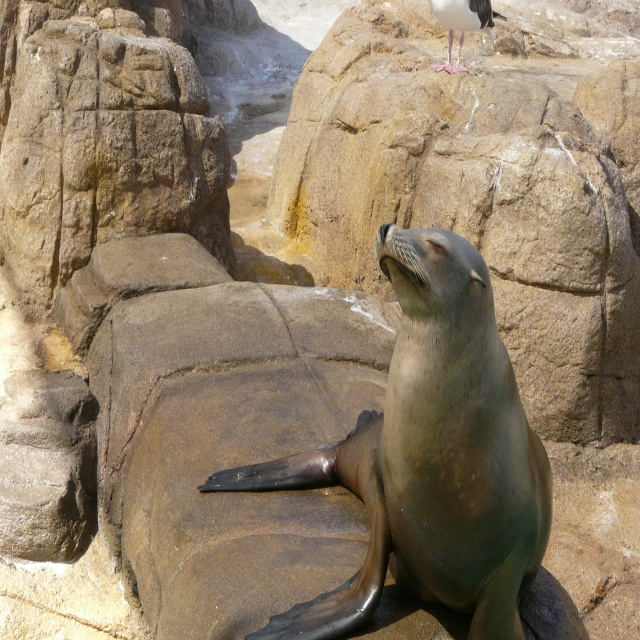Sea lion: (200, 222, 554, 639)
